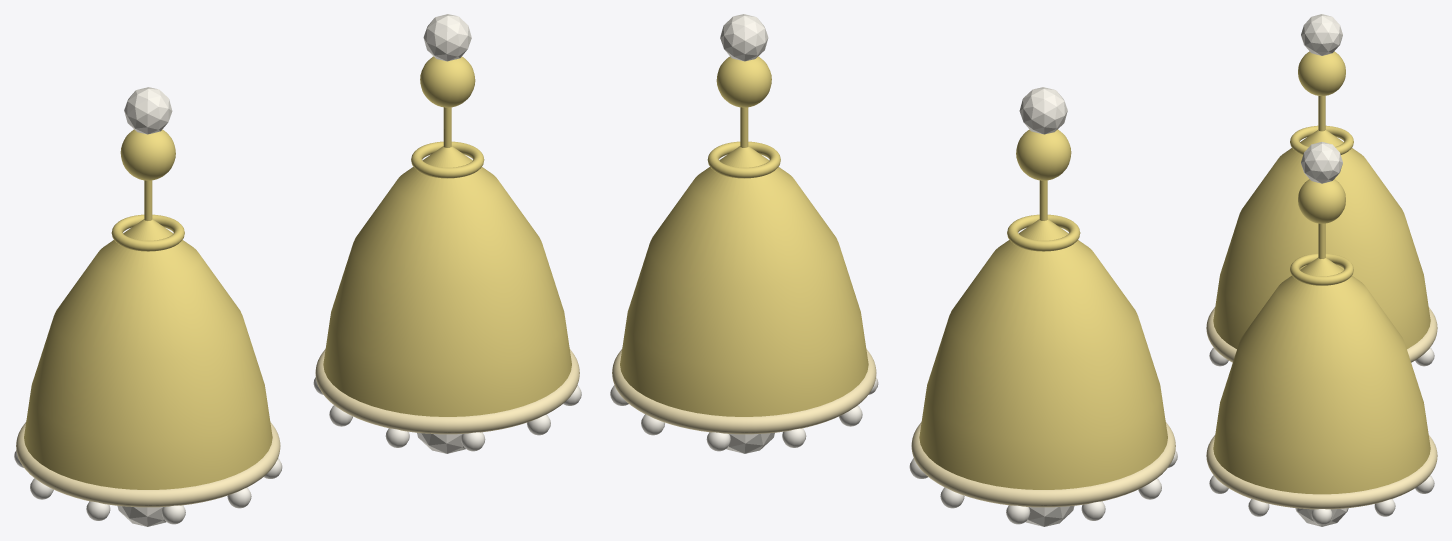
File: raag-jhumka-earrings.glb
The picture shows the model from 3 angles, left to right: view 1: azimuth 30°, elevation 25°; view 2: azimuth 150°, elevation 25°; view 3: azimuth 270°, elevation 25°; orthographic projection. The views are drawn at different scales.
Visible parts, largest first — view 1: raag-jhumka-earrings; view 2: raag-jhumka-earrings; view 3: raag-jhumka-earrings.
Part boxes in pixels (bbox=[...]): raag-jhumka-earrings: bbox=[14, 14, 581, 526]; raag-jhumka-earrings: bbox=[610, 14, 1177, 526]; raag-jhumka-earrings: bbox=[1206, 14, 1437, 526].
Size of the model in its own units: 3.4 by 2.66 by 1.46.
